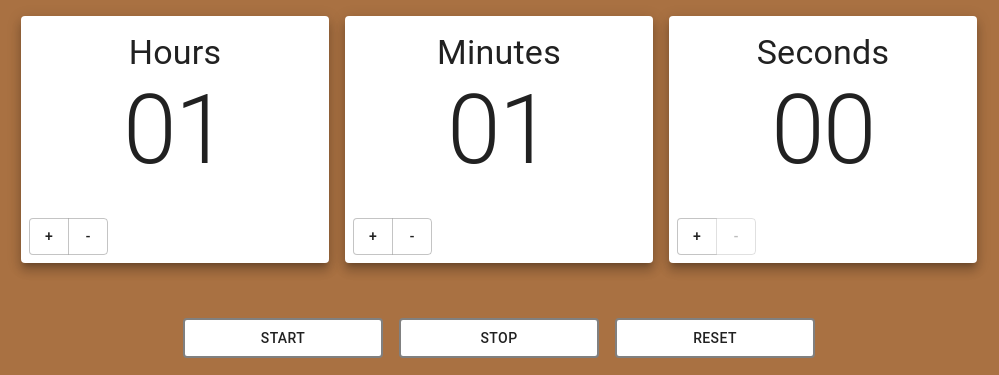
Test: Timer component renders › should increase time on seconds plus click
The width and height of the screenshot is (999, 375).
Click the button "+" below "00" at (697, 237), box [677,218,717,255]
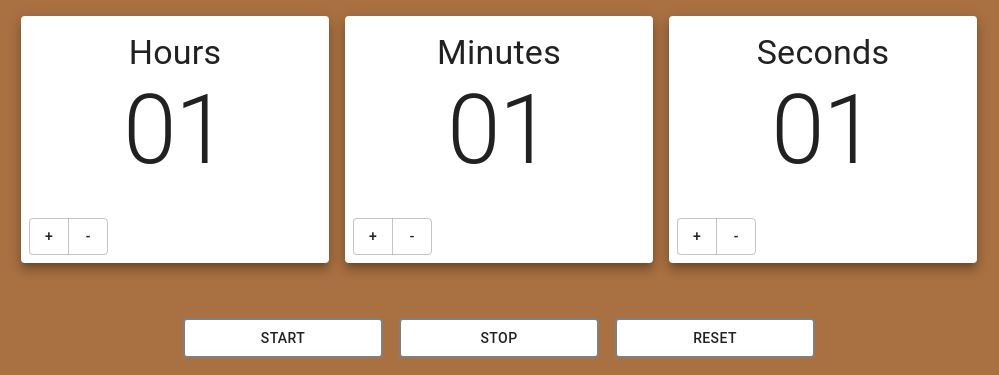
Expected: the heading with id "seconds" reads "01", [771,74,875,186]
